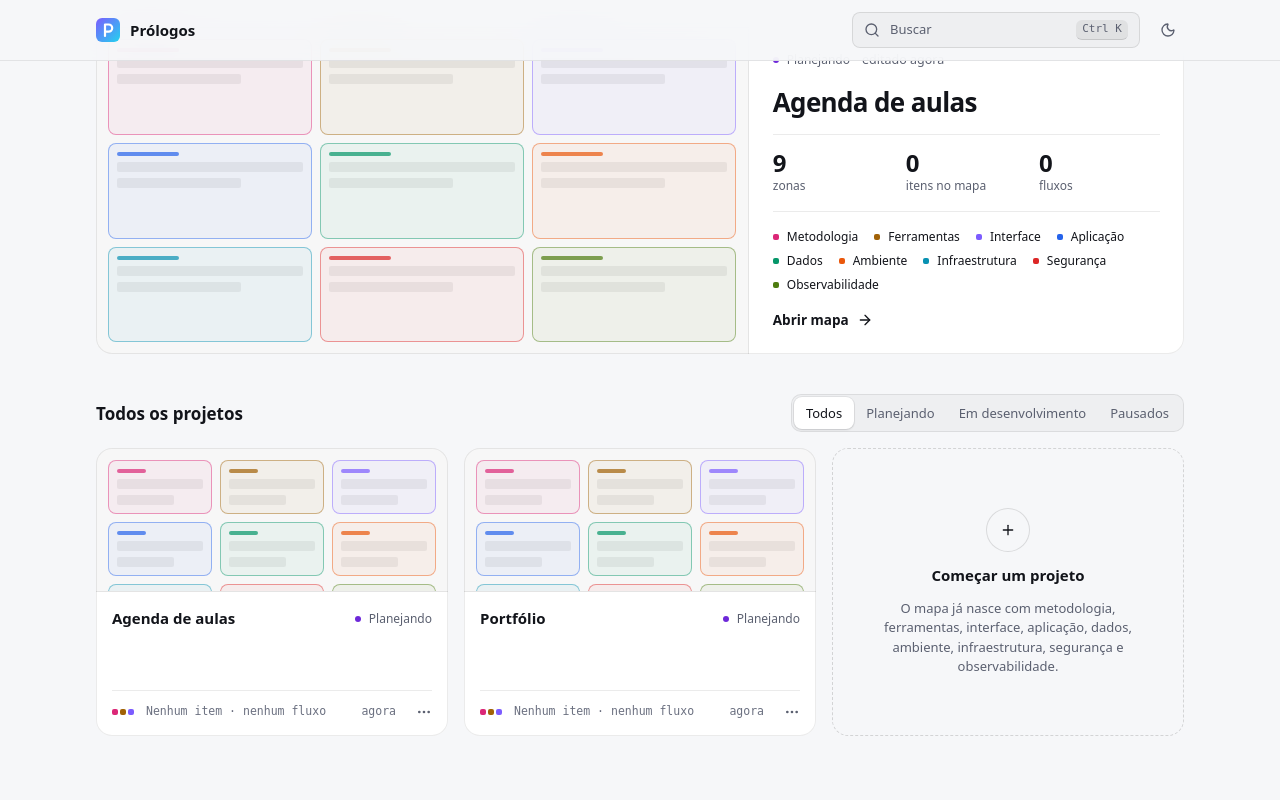
it: home (RN 4, 18) › archives a project out of the main list and shows it under "Ver arquivados"
This screenshot has width=1280, height=800.
(page scrolled)
What coordinates should you click on to do the following:
click the button named "Ações de Portfólio"
I would click on:
 (792, 712)
Its box is [776,696,808,728].
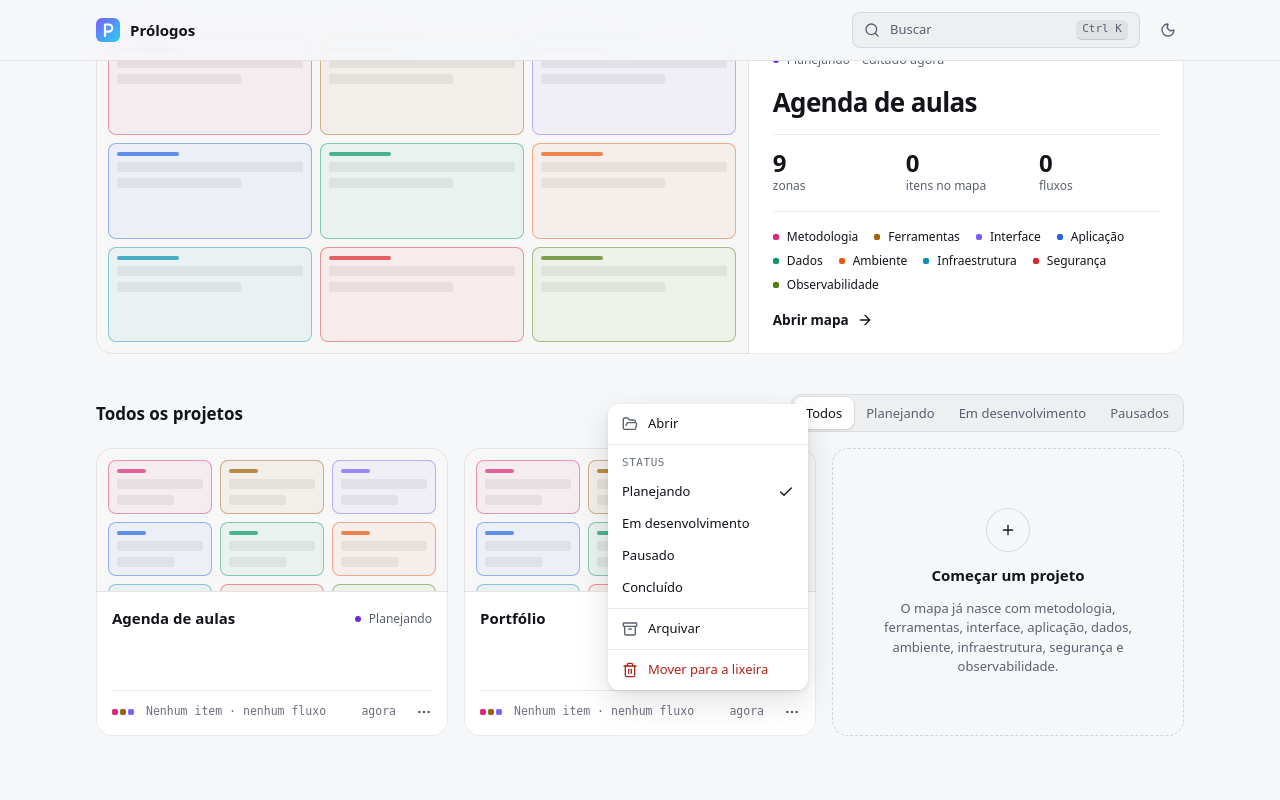
What coordinates should you click on to do the following:
click the menu item "Arquivar"
I would click on:
 (661, 628)
Its box is [622,619,700,637].
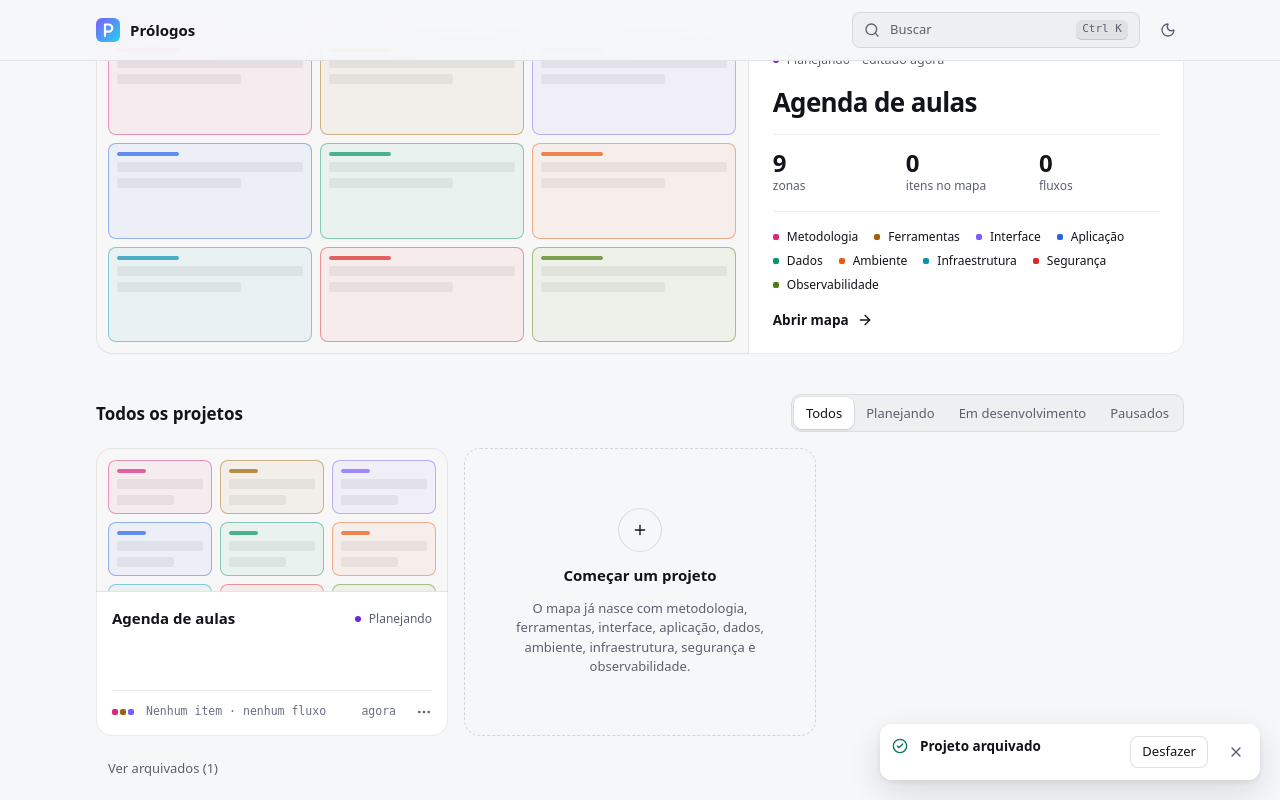
Expected: the text "Projeto arquivado" is shown, [920,737,1041,755]
What coordinates should you click on to do the following:
click the button "Ver arquivados (1)"
I would click on:
 (163, 768)
Its box is [96,752,230,784].
(page scrolled)
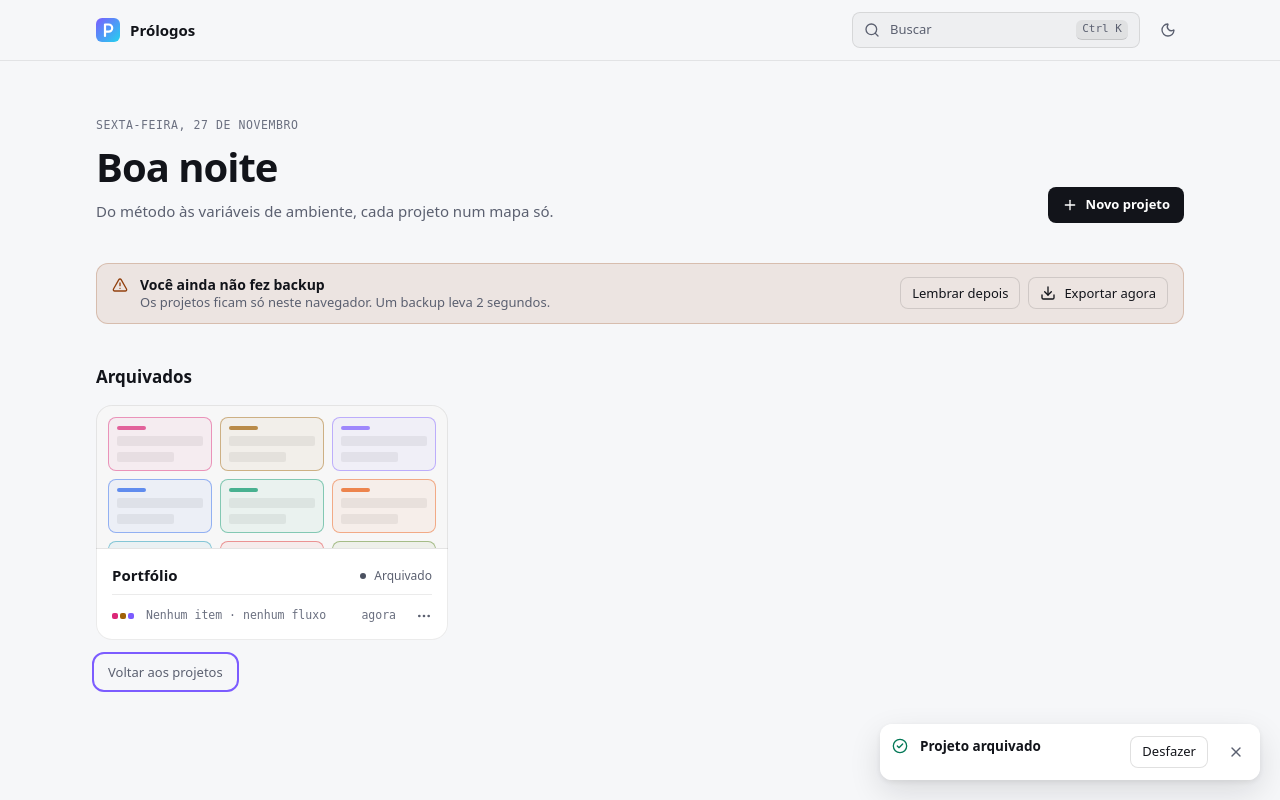
Expected: the heading "Arquivados" is shown, [96,364,192,389]
Expected: the link "Portfólio" is shown, [112,565,178,585]
